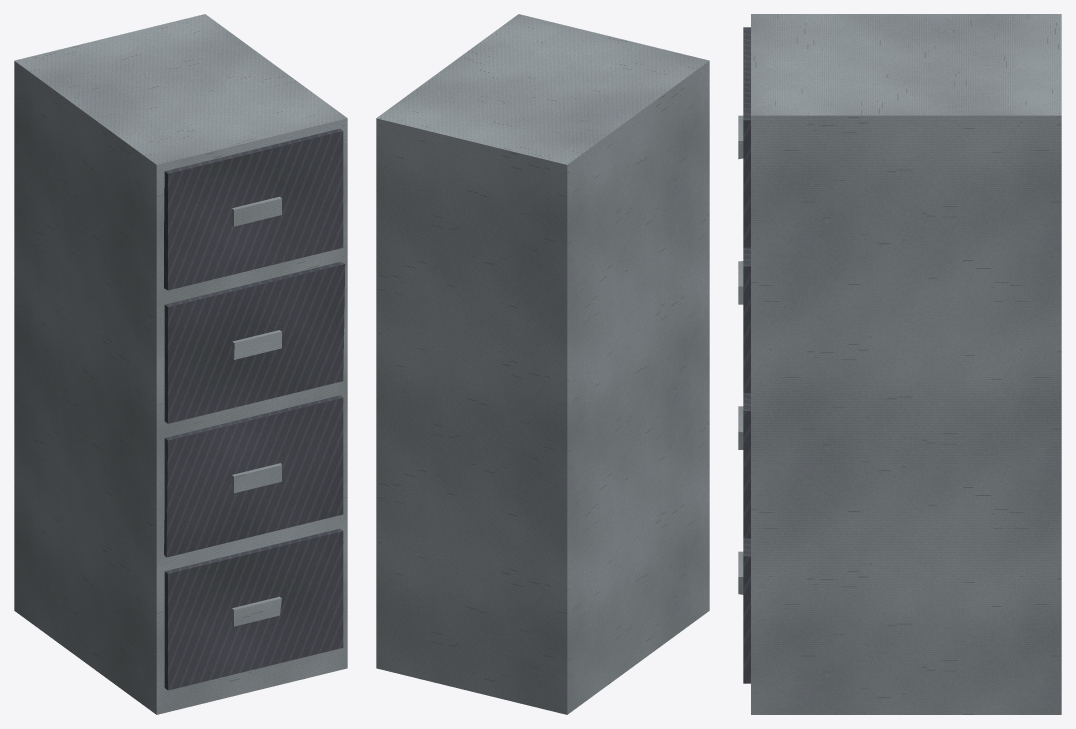
Rendered from cabinet_v4.glb.
3 renders of one model, left to right at view 1: azimuth 30°, elevation 25°; view 2: azimuth 150°, elevation 25°; view 3: azimuth 270°, elevation 25°, orthographic. The views are drawn at different scales.
Visible parts, largest first — view 1: Variant_cabinet_4; view 2: Variant_cabinet_4; view 3: Variant_cabinet_4.
Part boxes in pixels (box(x1,y1,x2,y2)): Variant_cabinet_4: box(14, 14, 347, 714); Variant_cabinet_4: box(376, 14, 709, 714); Variant_cabinet_4: box(738, 14, 1061, 714).
Bounding box in the file's own units: 0.48 × 1.32 × 0.645.
2 materials, 2 textured.
